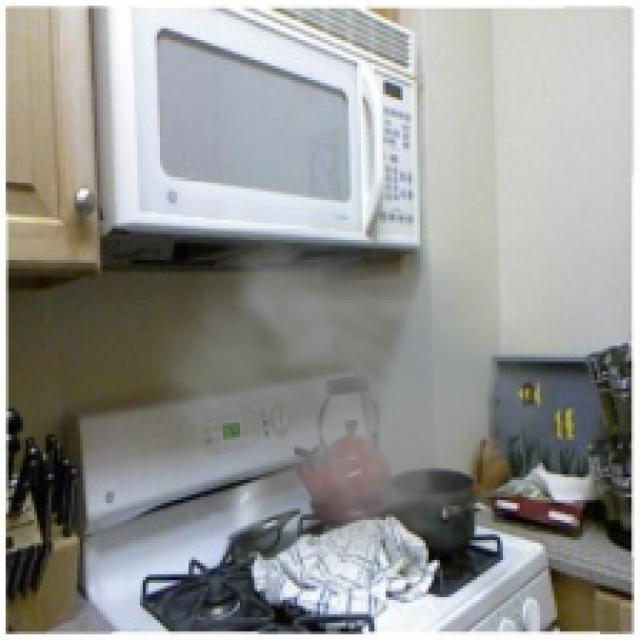Smoke: (140, 228, 557, 598)
